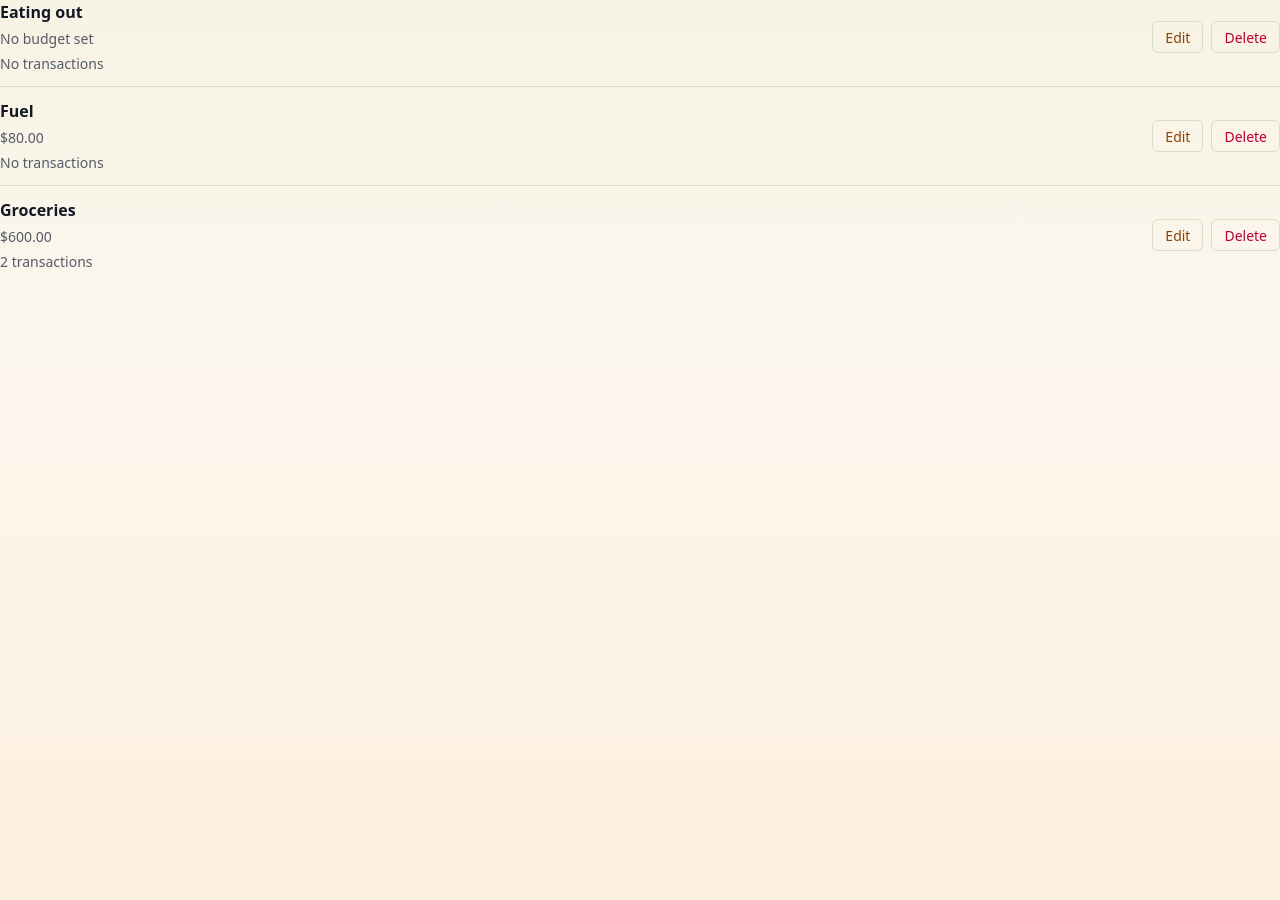
Test: deleting a category › keeps the category on Cancel and returns focus to its Delete button
The image size is (1280, 900).
Click the button "Delete" in the row of "$80.00".
click(1246, 136)  # box [1211,120,1279,152]
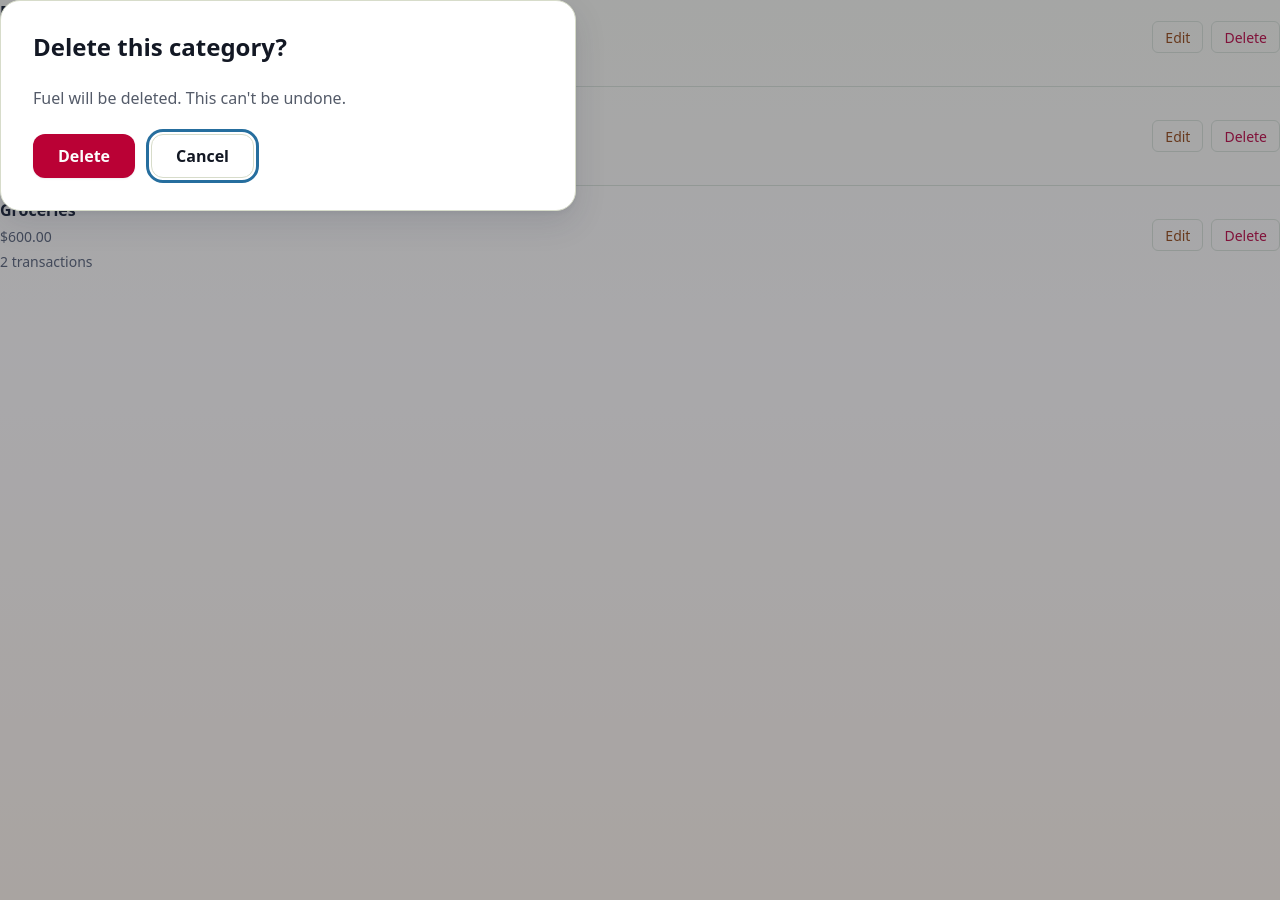
Click the button "Cancel".
click(202, 156)  # box [151,134,254,178]
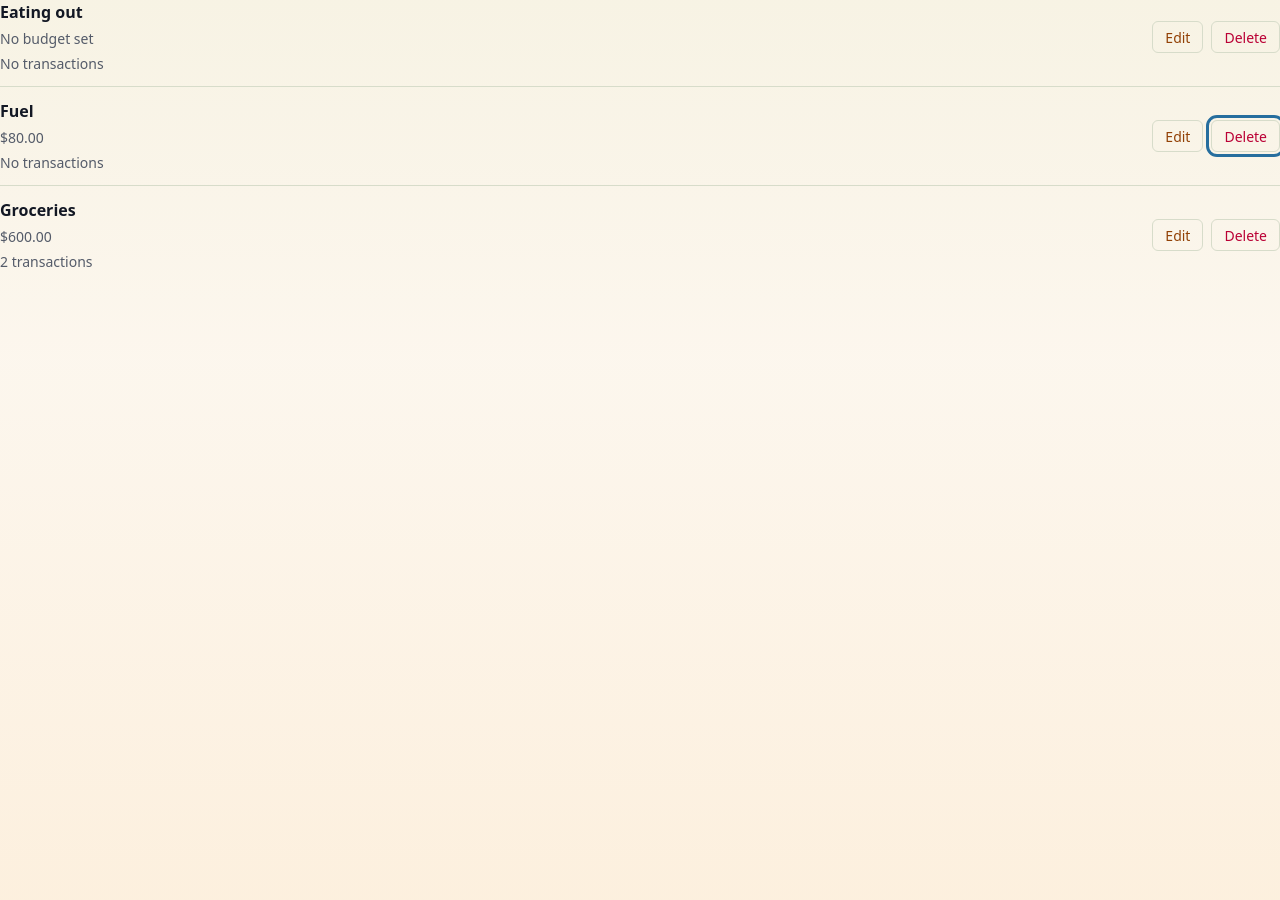
Check: the dialog is gone
